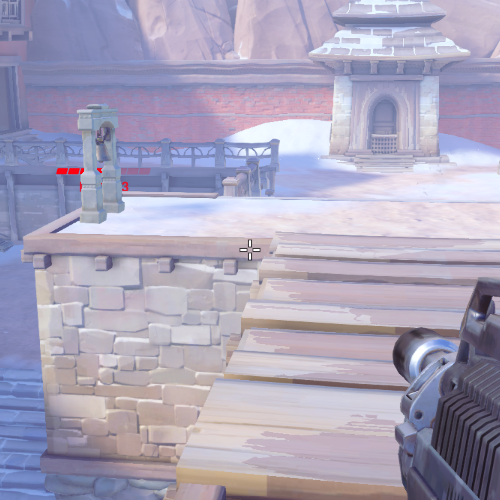hpbar: (55, 167, 151, 176)
